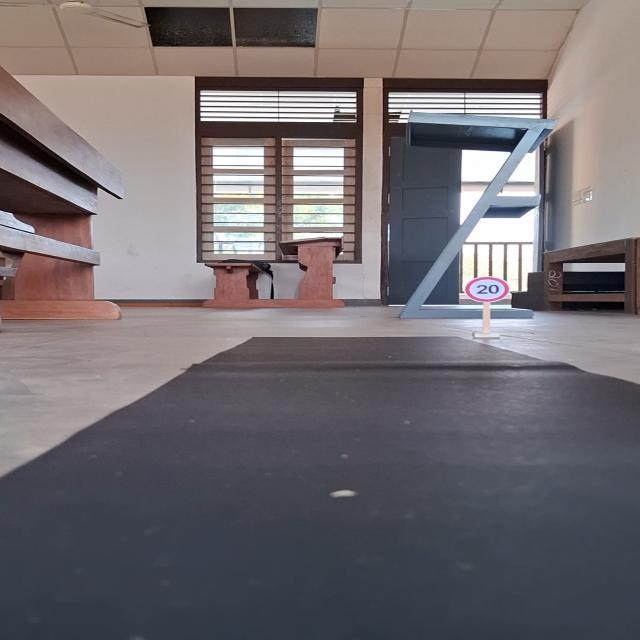Speed20: (463, 276, 511, 304)
